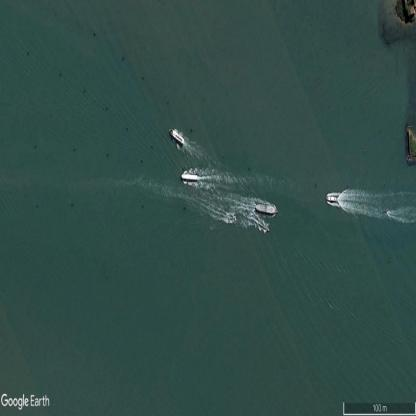ship: (256, 203, 278, 214), (169, 129, 184, 145), (181, 174, 198, 181), (326, 196, 336, 202), (267, 227, 270, 230)
